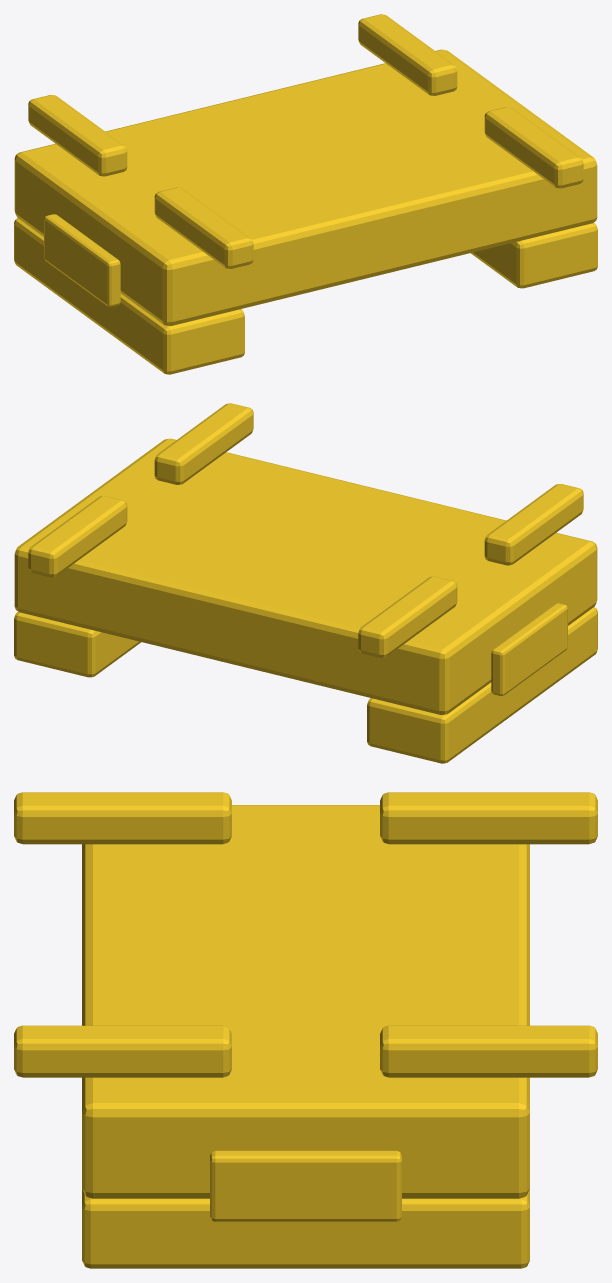
File: Bridge_Pier_Mini.fbx
3 renders of one model, top to bottom at view 1: azimuth 30°, elevation 25°; view 2: azimuth 150°, elevation 25°; view 3: azimuth 270°, elevation 25°, orthographic. The views are drawn at different scales.
Parts seen in each view (by area): view 1: Bridge_Pier_Mini mesh; view 2: Bridge_Pier_Mini mesh; view 3: Bridge_Pier_Mini mesh.
Part boxes in pixels (bbox=[...]): Bridge_Pier_Mini mesh: bbox=[14, 14, 597, 374]; Bridge_Pier_Mini mesh: bbox=[14, 403, 597, 763]; Bridge_Pier_Mini mesh: bbox=[14, 792, 597, 1268].
Size of the model in its own units: 177 by 51.39 by 134.
